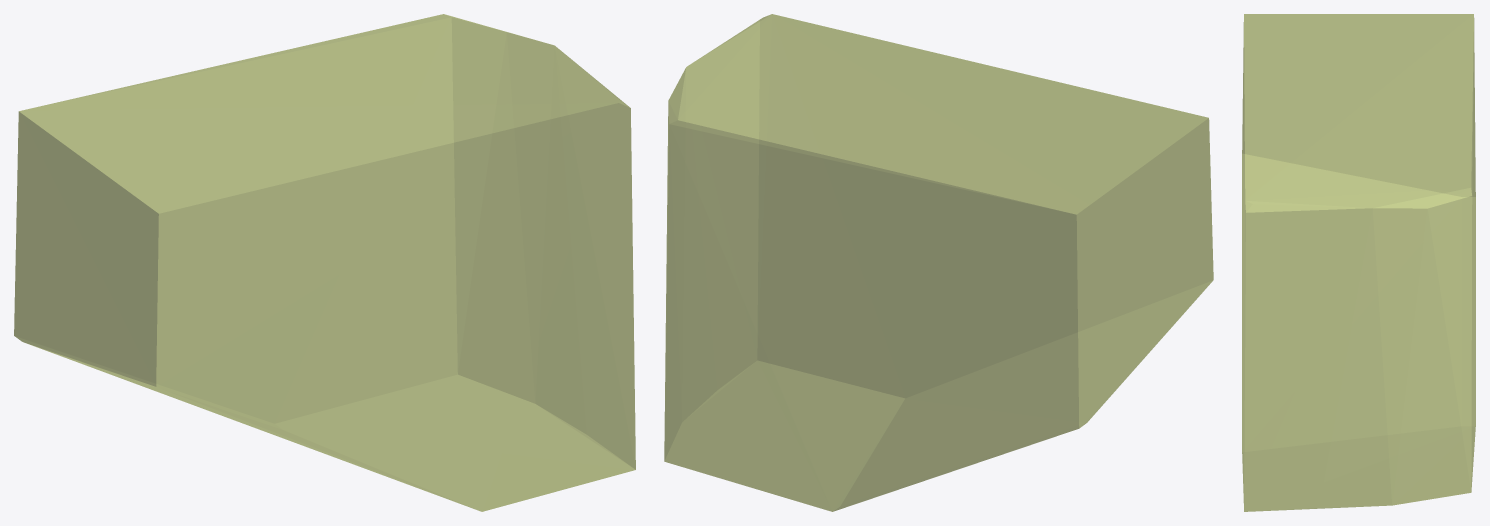
3 renders of one model, left to right at view 1: azimuth 30°, elevation 25°; view 2: azimuth 150°, elevation 25°; view 3: azimuth 270°, elevation 25°, orthographic. The views are drawn at different scales.
Visible parts, largest first — view 1: Shape_IndexedFaceSet.002_Shape_IndexedFaceSet.5678; view 2: Shape_IndexedFaceSet.002_Shape_IndexedFaceSet.5678; view 3: Shape_IndexedFaceSet.002_Shape_IndexedFaceSet.5678.
Part boxes in pixels (left/top/right/bottom): Shape_IndexedFaceSet.002_Shape_IndexedFaceSet.5678: left=14, top=14, right=635, bottom=511; Shape_IndexedFaceSet.002_Shape_IndexedFaceSet.5678: left=664, top=14, right=1213, bottom=511; Shape_IndexedFaceSet.002_Shape_IndexedFaceSet.5678: left=1242, top=14, right=1475, bottom=511.
Size of the model in its own units: 0.2097 by 0.1567 by 0.1074.
